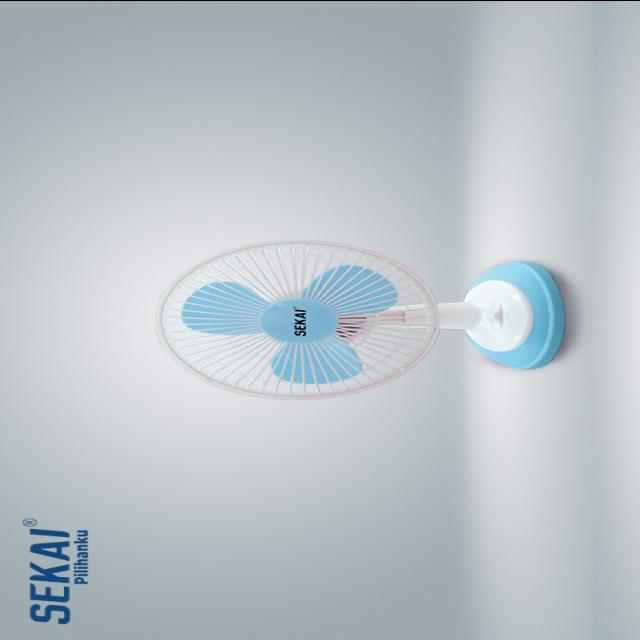fan: (152, 238, 576, 406)
